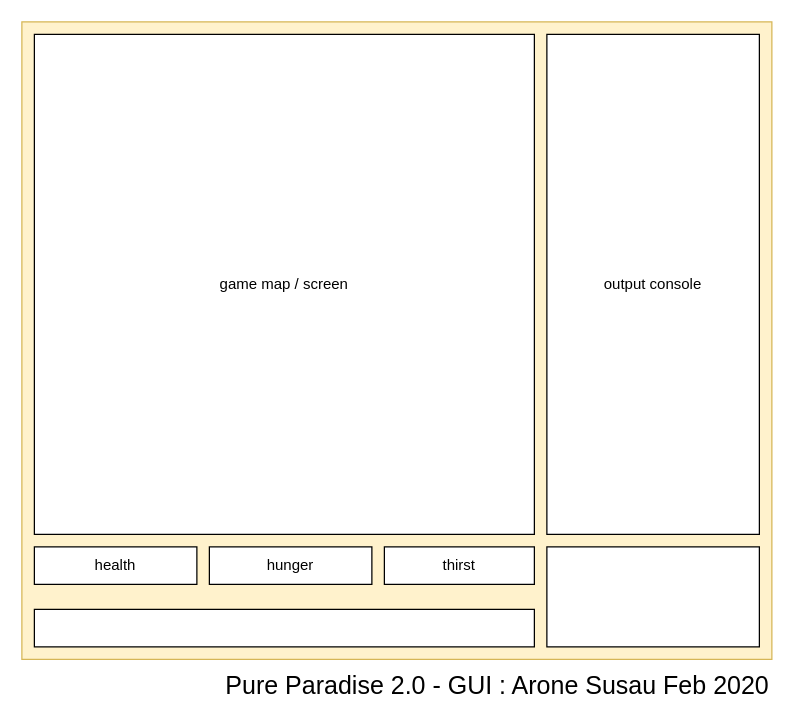
Image size: 794x721. Some labels were removed from this diagram. Each missing label, with the box of its shape:
attack / defence / gold story completion: (546, 546, 759, 647)
enter text here: (33, 608, 534, 647)
